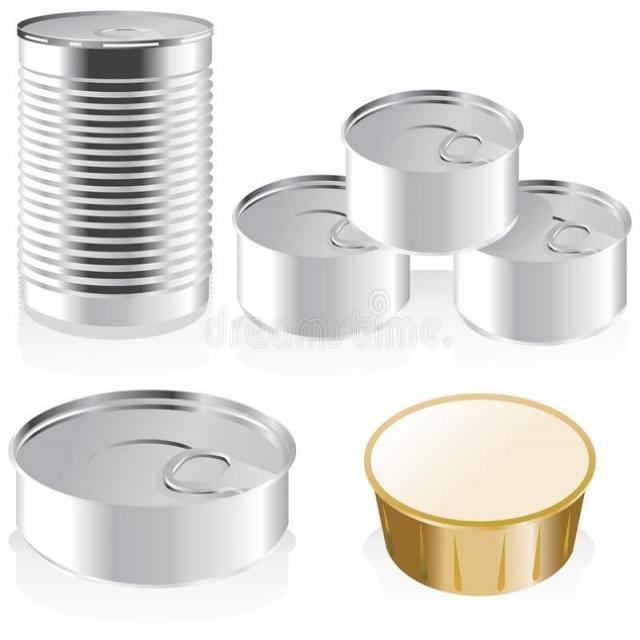metel: (11, 6, 225, 358), (344, 383, 605, 623), (15, 384, 303, 599), (325, 73, 551, 270), (232, 169, 434, 359), (440, 174, 637, 354)
